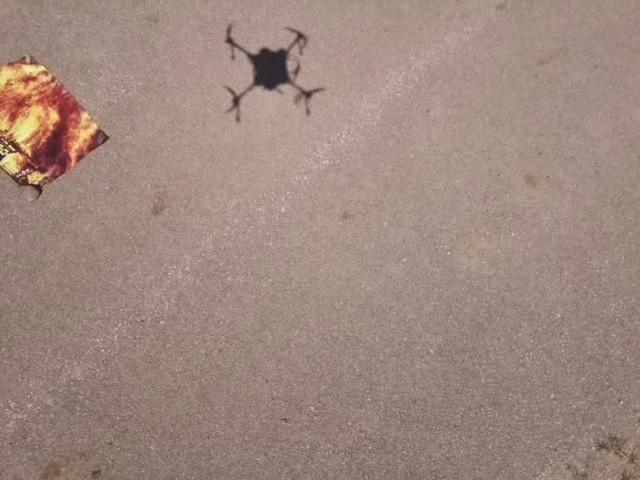fire-poster: (0, 53, 110, 201)
